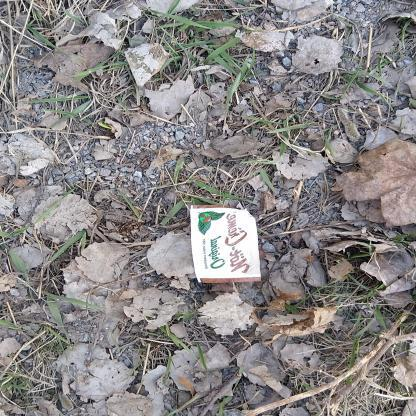kagit: (191, 206, 265, 286)
